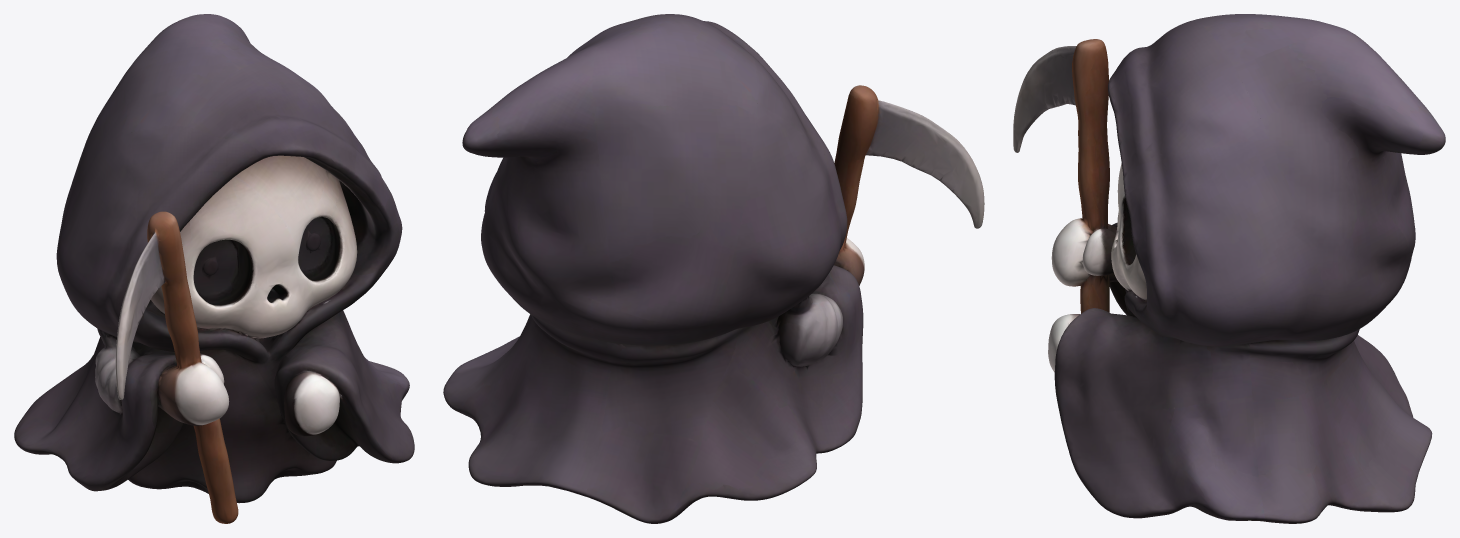
The model's file is reaper.glb.
The picture shows the model from 3 angles, left to right: view 1: azimuth 30°, elevation 25°; view 2: azimuth 150°, elevation 25°; view 3: azimuth 270°, elevation 25°; orthographic projection. The views are drawn at different scales.
Parts seen in each view (by area): view 1: tripo_node_774134d2-384a-4a88-8d12-880cd8d4cd85; view 2: tripo_node_774134d2-384a-4a88-8d12-880cd8d4cd85; view 3: tripo_node_774134d2-384a-4a88-8d12-880cd8d4cd85.
Part boxes in pixels (x1,y1,x2,y2): tripo_node_774134d2-384a-4a88-8d12-880cd8d4cd85: (14,14,414,523); tripo_node_774134d2-384a-4a88-8d12-880cd8d4cd85: (443,14,984,523); tripo_node_774134d2-384a-4a88-8d12-880cd8d4cd85: (1013,14,1445,523).
Size of the model in its own units: 0.9791 by 0.9639 by 0.8615.
1 material, 1 textured.
